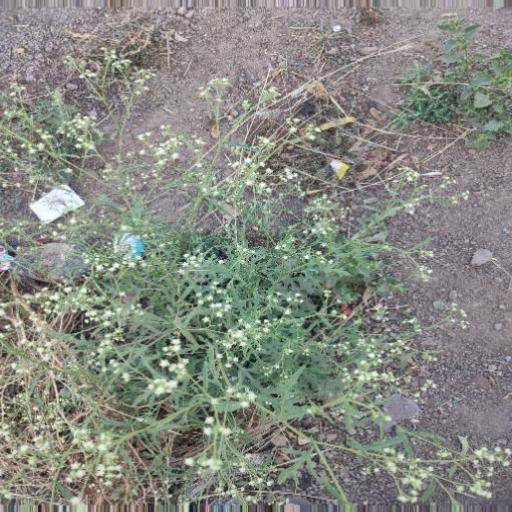weed: (6, 90, 470, 512)
